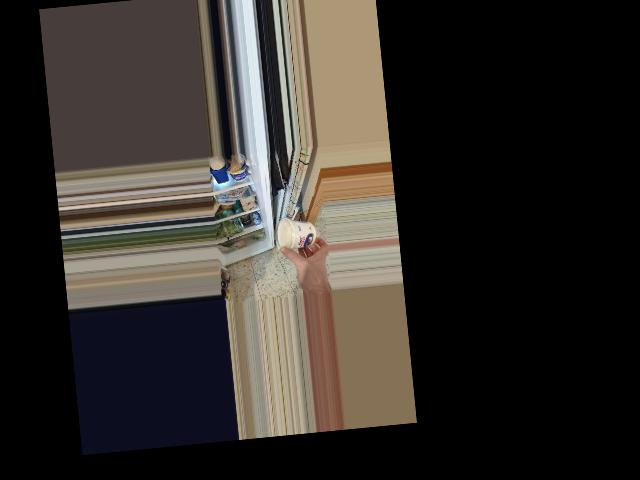cotage: (274, 216, 315, 251)
